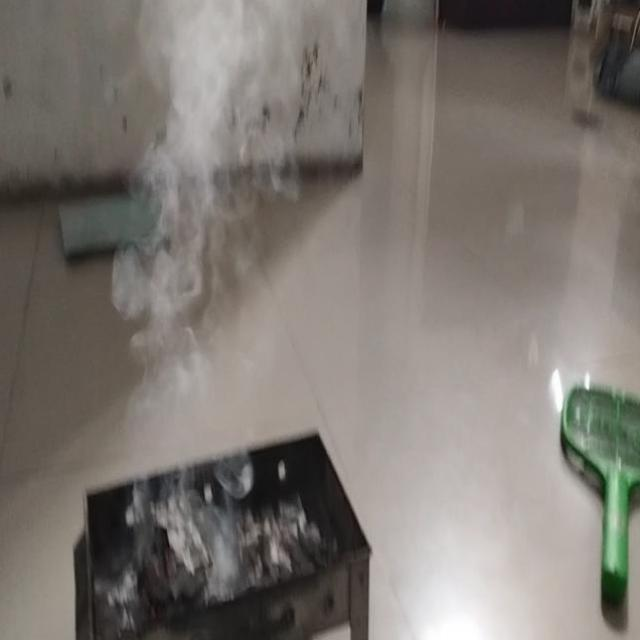fire: (143, 2, 300, 245), (109, 243, 224, 460)
